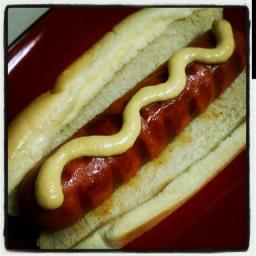hotdog: (46, 32, 246, 234)
